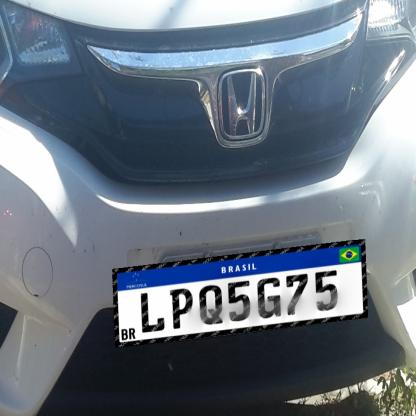PlacaM: (112, 240, 368, 348)
